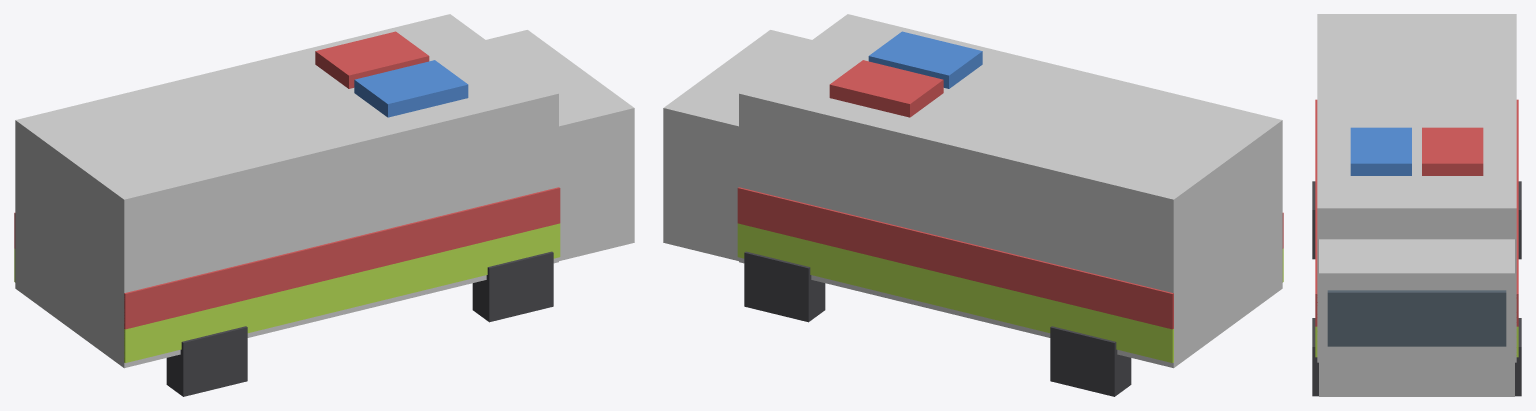
Rendered from AED_Ambulance.gltf.
3 views of the same model, side by side, from view 1: azimuth 30°, elevation 25°; view 2: azimuth 150°, elevation 25°; view 3: azimuth 270°, elevation 25° (orthographic). The views are drawn at different scales.
Visible parts, largest first — view 1: AED_Ambulance; view 2: AED_Ambulance; view 3: AED_Ambulance.
Boxes of the visible parts, bbox=[...] form: AED_Ambulance: bbox=[14, 14, 634, 396]; AED_Ambulance: bbox=[663, 14, 1283, 396]; AED_Ambulance: bbox=[1312, 14, 1521, 396].
Bounding box in the file's own units: 6.41 × 2.64 × 2.46.
